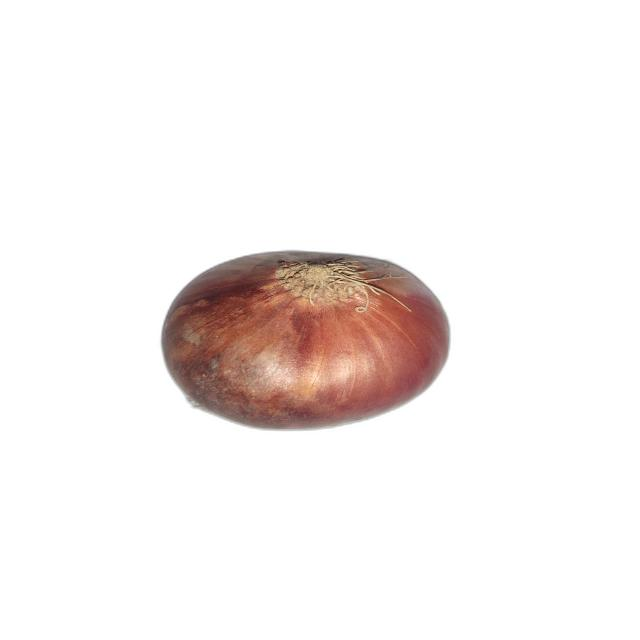onion: (160, 250, 452, 430)
